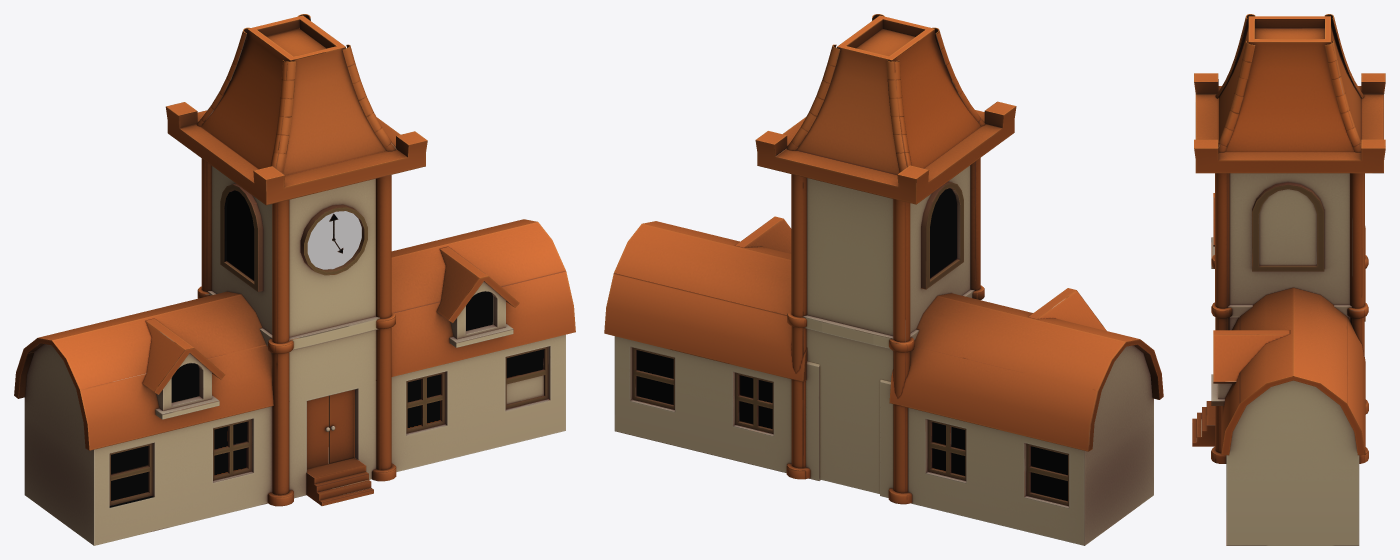
Rendered from Museum.fbx.
The picture shows the model from 3 angles, left to right: view 1: azimuth 30°, elevation 25°; view 2: azimuth 150°, elevation 25°; view 3: azimuth 270°, elevation 25°; orthographic projection. The views are drawn at different scales.
Visible parts, largest first — view 1: Cube.024; view 2: Cube.024; view 3: Cube.024.
Part boxes in pixels (left/top/right/bottom): Cube.024: left=14, top=14, right=575, bottom=545; Cube.024: left=604, top=14, right=1163, bottom=545; Cube.024: left=1192, top=14, right=1385, bottom=545.
Bounding box in the file's own units: 535 × 448 × 193.
1 material, 1 textured.
